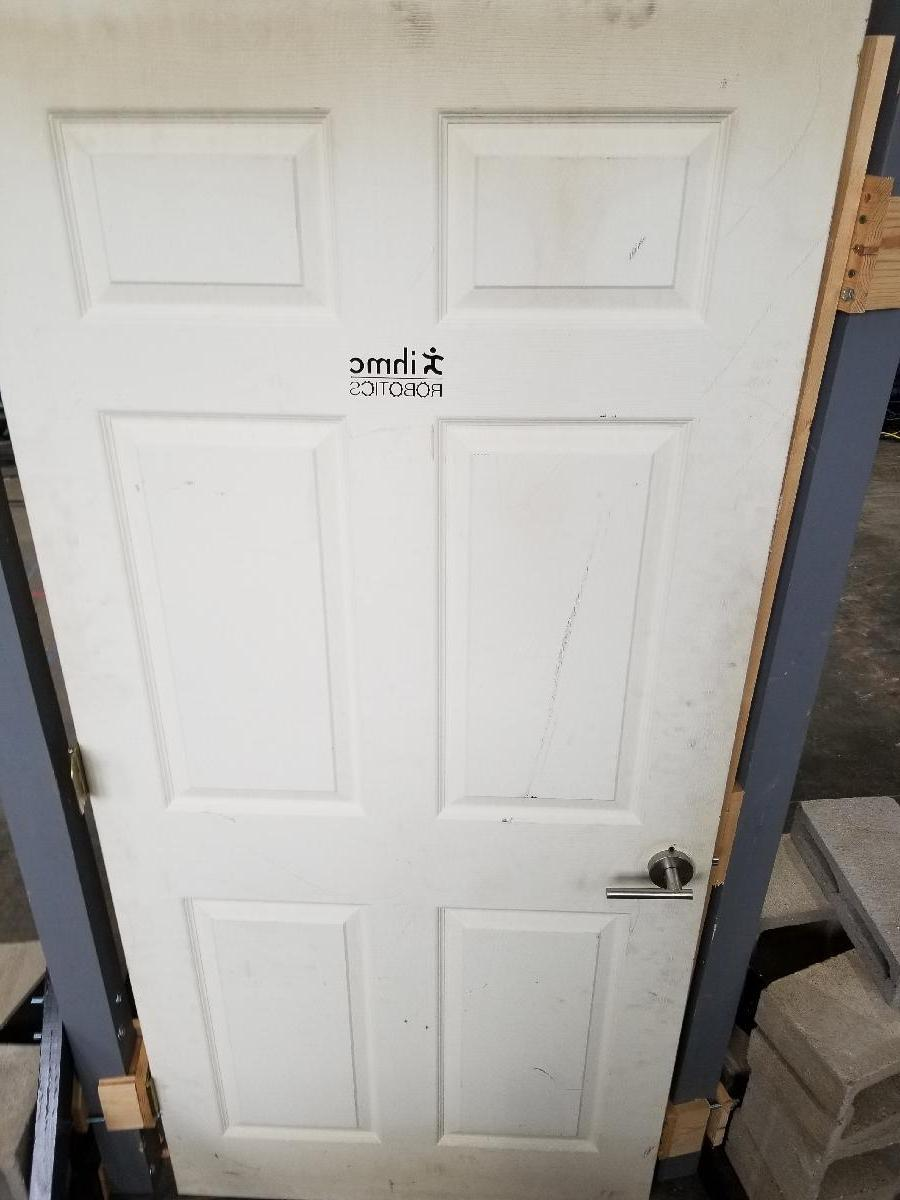door: (69, 0, 774, 1200)
handle: (603, 843, 686, 913)
